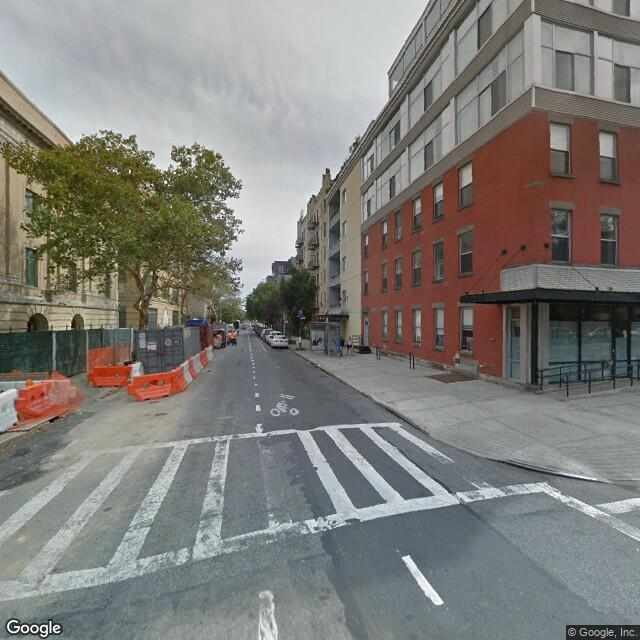litter: (44, 410, 75, 420)
